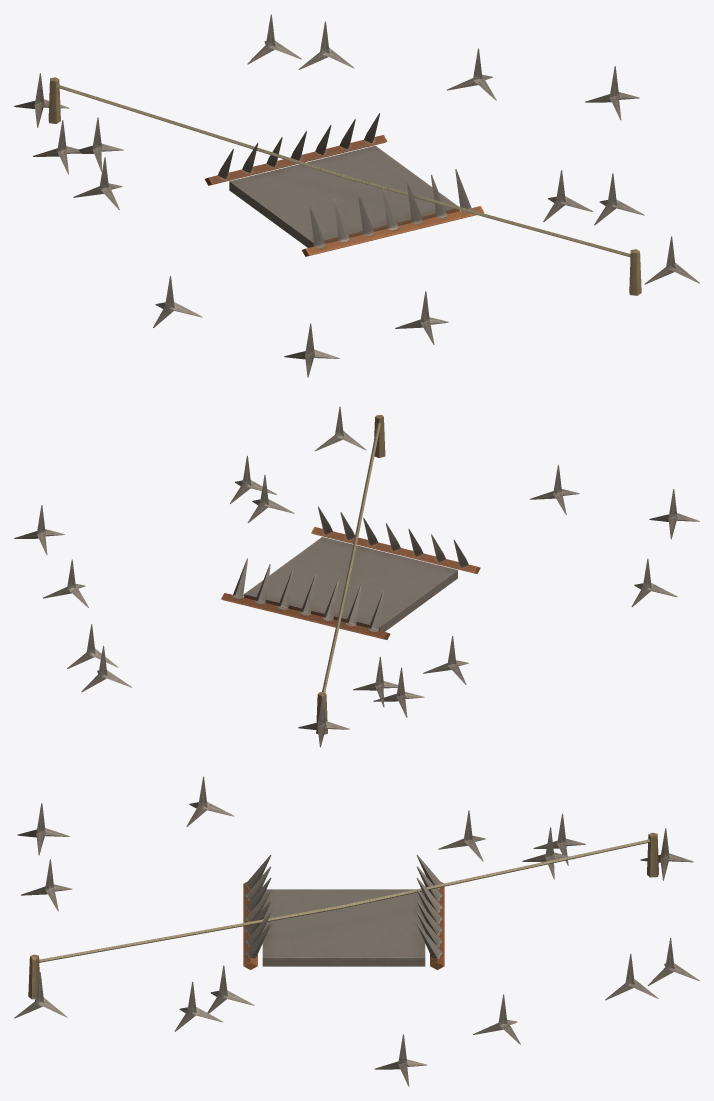
File: trap-town.glb
3 views of the same model, one above another, from view 1: azimuth 30°, elevation 25°; view 2: azimuth 150°, elevation 25°; view 3: azimuth 270°, elevation 25° (orthographic). The views are drawn at different scales.
Visible parts, largest first — view 1: trap-town:static, trap-town:bar-b-mesh, trap-town:bar-a-mesh; view 2: trap-town:static, trap-town:bar-a-mesh, trap-town:bar-b-mesh; view 3: trap-town:static, trap-town:bar-a-mesh, trap-town:bar-b-mesh.
Part boxes in pixels (x1=…): trap-town:static: x1=14, y1=14, x2=699, y2=377; trap-town:bar-b-mesh: x1=302, y1=169, x2=484, y2=256; trap-town:bar-a-mesh: x1=205, y1=113, x2=387, y2=185; trap-town:static: x1=14, y1=406, x2=699, y2=747; trap-town:bar-a-mesh: x1=221, y1=558, x2=390, y2=639; trap-town:bar-b-mesh: x1=311, y1=506, x2=480, y2=573; trap-town:static: x1=14, y1=776, x2=699, y2=1086; trap-town:bar-a-mesh: x1=416, y1=855, x2=444, y2=969; trap-town:bar-b-mesh: x1=243, y1=855, x2=271, y2=969.
Size of the model in its own units: 1.64 by 0.1273 by 1.69.
Materials: 1 (1 with a texture image).
